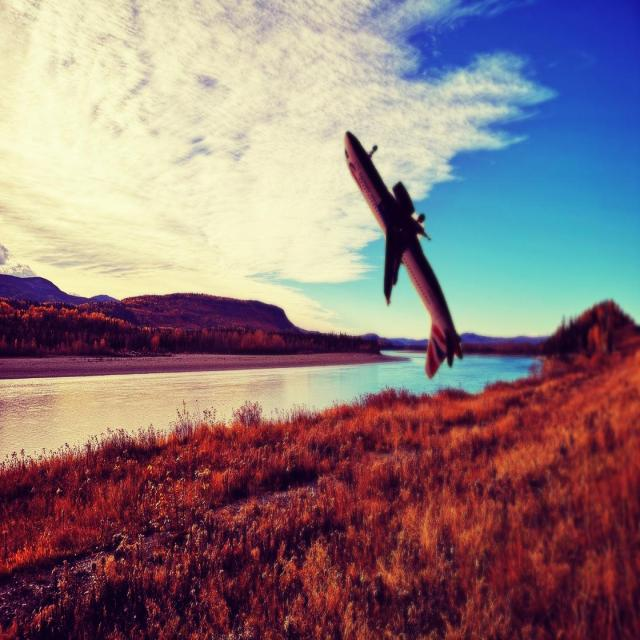airplane: (343, 129, 464, 379)
